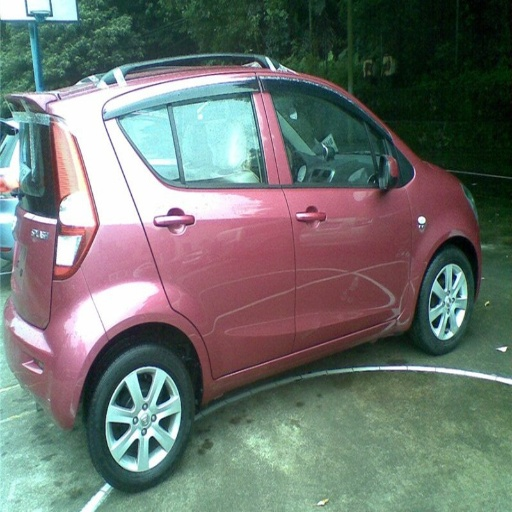back_right_door: (129, 76, 294, 385)
trunk: (8, 214, 58, 327)
